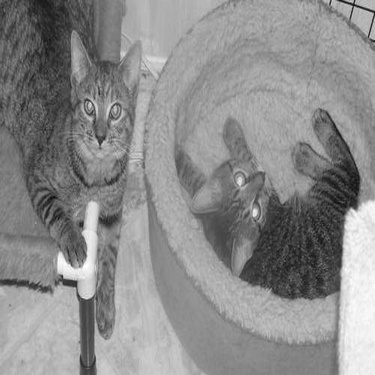cat: (1, 9, 145, 333), (178, 101, 362, 304)
